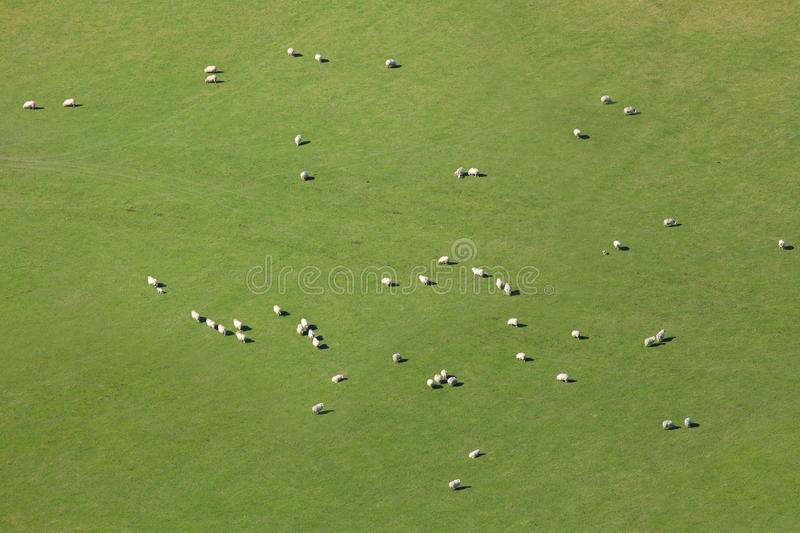sheep: (21, 98, 39, 111), (63, 94, 76, 109), (467, 446, 481, 459), (449, 475, 460, 491), (436, 255, 451, 266), (471, 266, 486, 277), (623, 106, 639, 116), (311, 402, 324, 414), (656, 327, 666, 342), (236, 330, 247, 343), (330, 374, 344, 384), (664, 217, 678, 227), (661, 420, 676, 429), (148, 275, 159, 287), (454, 166, 465, 178), (612, 239, 623, 251), (468, 167, 481, 177), (386, 57, 397, 68), (419, 273, 430, 284), (508, 317, 520, 327), (644, 338, 657, 347), (217, 324, 227, 335), (448, 375, 458, 386), (274, 304, 283, 316), (391, 353, 403, 362), (504, 281, 511, 296), (192, 308, 200, 321), (426, 377, 434, 390), (572, 128, 582, 138), (301, 170, 310, 181), (233, 319, 242, 330), (517, 352, 528, 361), (380, 276, 391, 285), (205, 74, 217, 82), (600, 95, 612, 103), (556, 373, 569, 380), (206, 318, 215, 328), (312, 336, 320, 347), (295, 132, 302, 144), (301, 317, 308, 329), (297, 323, 304, 335), (497, 277, 503, 291), (571, 329, 580, 338), (204, 65, 217, 71), (308, 328, 315, 339), (314, 53, 322, 62), (435, 374, 442, 383), (779, 239, 786, 248), (157, 285, 163, 295), (684, 418, 690, 428), (287, 47, 294, 55), (601, 250, 608, 256)
